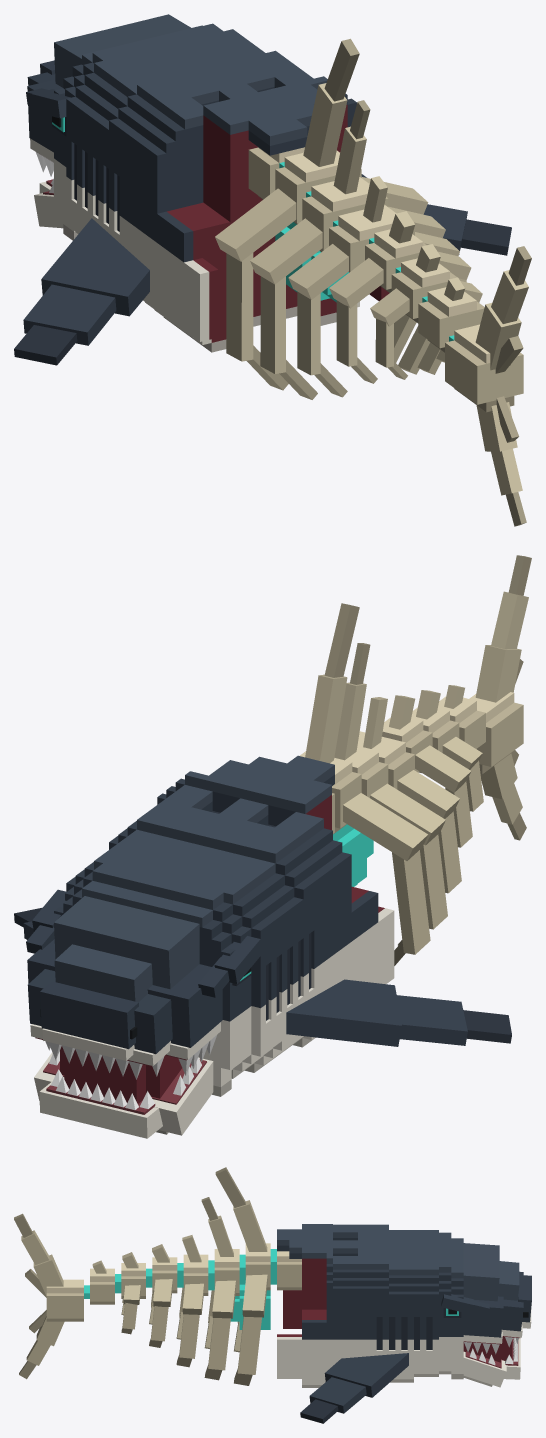
File: HalfboneMegalodon.obj
The picture shows the model from 3 angles, top to bottom: view 1: azimuth 30°, elevation 25°; view 2: azimuth 150°, elevation 25°; view 3: azimuth 270°, elevation 25°; orthographic projection. The views are drawn at different scales.
Parts seen in each view (by area): view 1: S1, S2, B2, B3, Tail, Head, B4, B1, Jaw; view 2: Head, S1, B2, S2, B3, Tail, Jaw, B4; view 3: S1, S2, Head, B2, B3, Tail, B4, Jaw, B1.
Part boxes in pixels (x1,y1,x2,y2): S1: [14, 29, 511, 365]; S2: [135, 70, 389, 352]; B2: [215, 38, 445, 399]; B3: [288, 176, 471, 397]; Tail: [445, 246, 531, 526]; Head: [26, 14, 223, 240]; B4: [370, 244, 484, 379]; B1: [248, 147, 304, 199]; Jaw: [34, 178, 63, 228]; Head: [26, 863, 262, 1103]; S1: [14, 800, 511, 1078]; B2: [299, 603, 447, 965]; S2: [157, 755, 394, 1047]; B3: [357, 695, 472, 893]; Tail: [469, 555, 531, 840]; Jaw: [34, 1051, 213, 1138]; B4: [411, 685, 485, 811]; S1: [300, 1224, 438, 1423]; S2: [277, 1224, 357, 1387]; Head: [439, 1232, 531, 1379]; B2: [201, 1167, 276, 1385]; B3: [149, 1235, 214, 1367]; Tail: [14, 1213, 89, 1379]; B4: [90, 1252, 152, 1334]; Jaw: [463, 1337, 520, 1387]; B1: [277, 1251, 301, 1290].
Size of the model in its own units: 26.89 by 18.62 by 41.59.
Materials: 1 (1 with a texture image).
